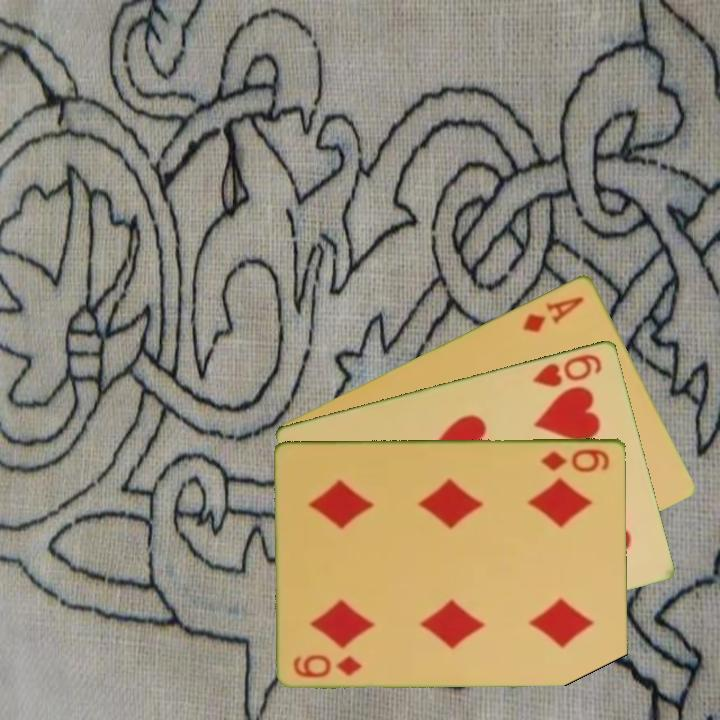6d: (537, 445, 612, 475), (290, 651, 365, 680)
6h: (529, 350, 606, 390)
Ad: (519, 292, 587, 335)
